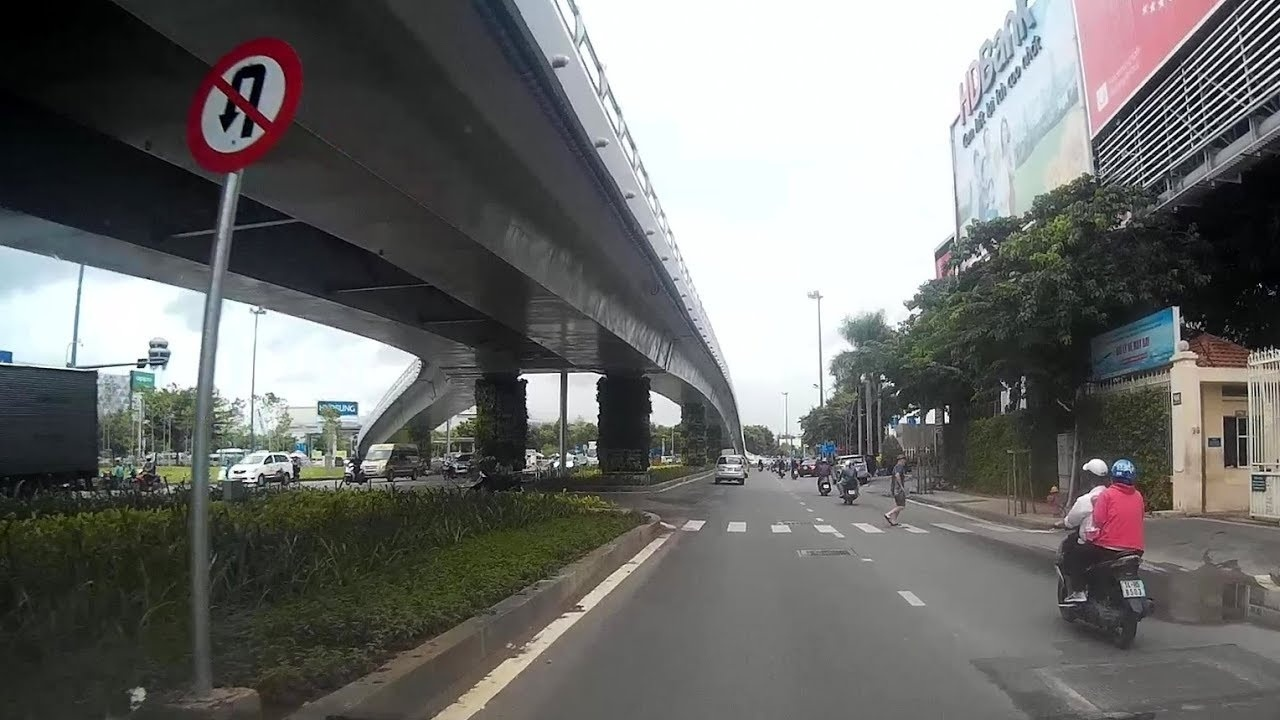Bien khac: (188, 38, 299, 168)
